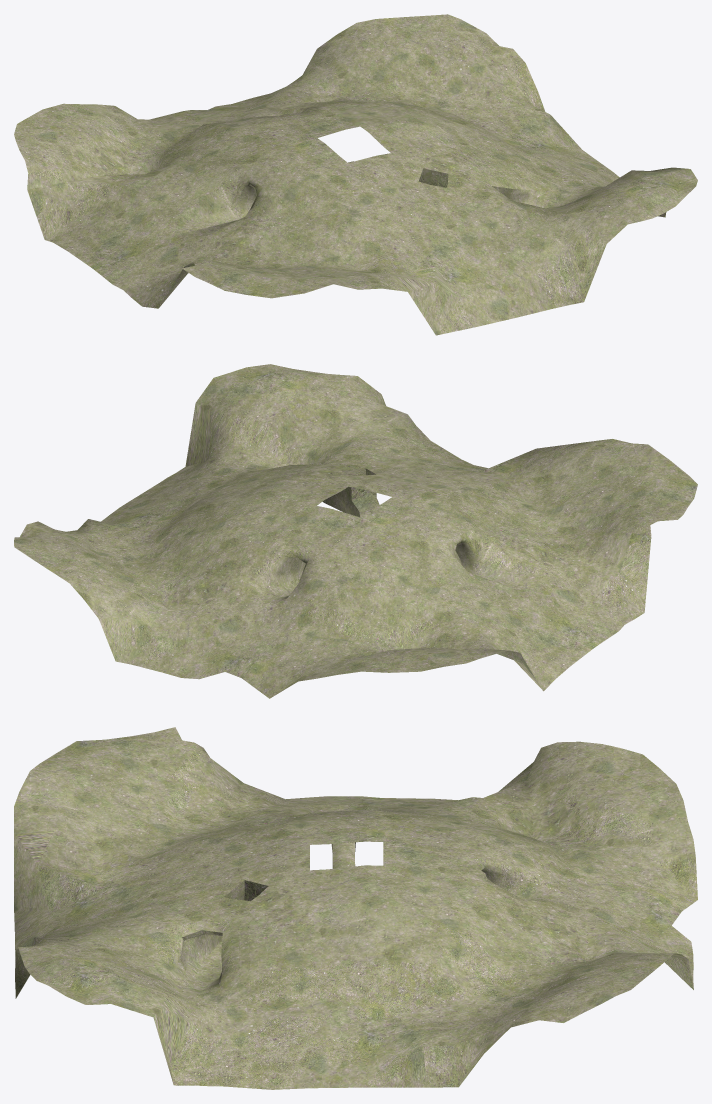
File: SM_Chateaux_03_01.fbx
The picture shows the model from 3 angles, top to bottom: view 1: azimuth 30°, elevation 25°; view 2: azimuth 150°, elevation 25°; view 3: azimuth 270°, elevation 25°; orthographic projection. The views are drawn at different scales.
Parts seen in each view (by area): view 1: SM_Chateaux_03_01; view 2: SM_Chateaux_03_01; view 3: SM_Chateaux_03_01.
Part boxes in pixels (bbox=[...]): SM_Chateaux_03_01: bbox=[14, 14, 697, 335]; SM_Chateaux_03_01: bbox=[14, 364, 697, 698]; SM_Chateaux_03_01: bbox=[14, 727, 697, 1089].
Bounding box in the file's own units: 5906 × 940 × 5953.
